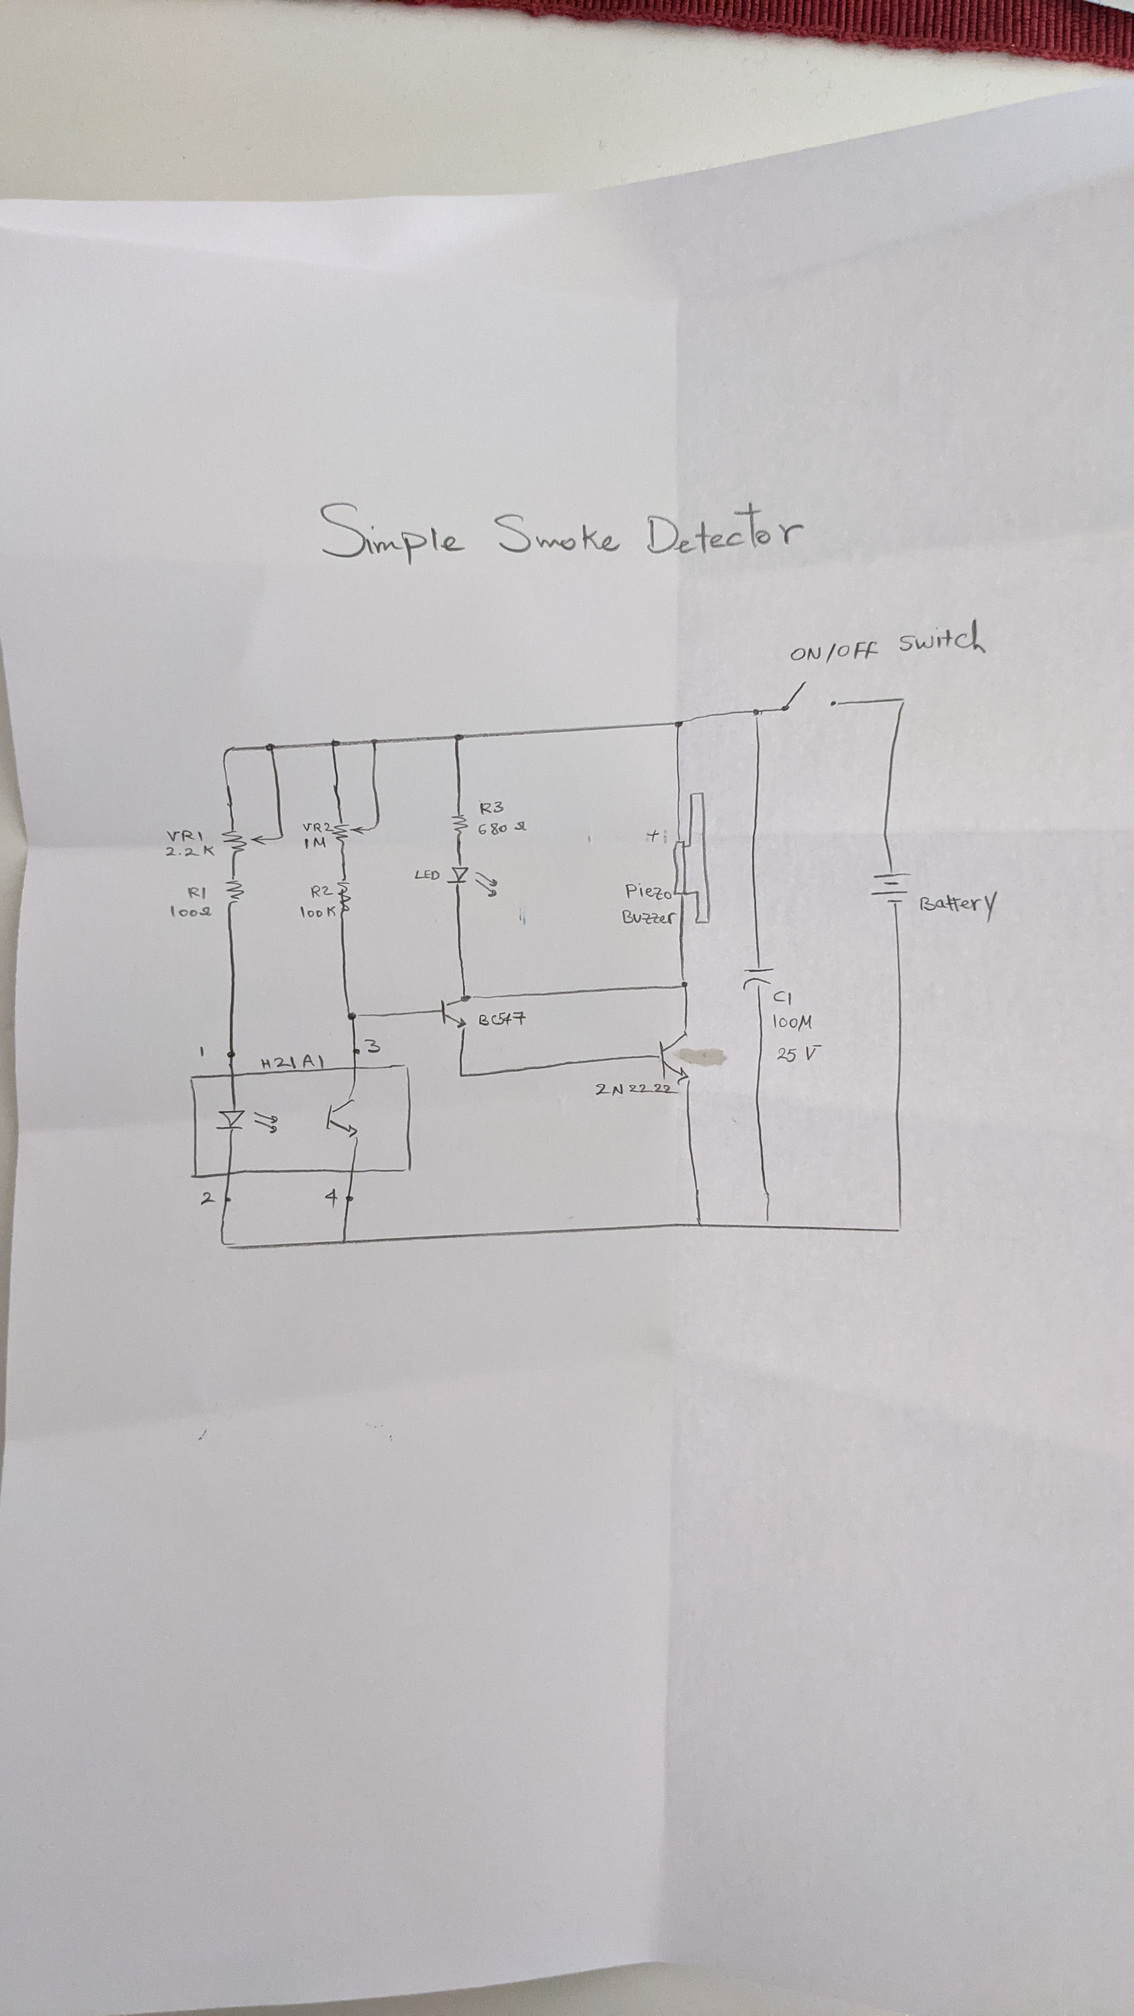capacitor.unpolarized: (739, 964, 778, 991)
diode.light_emitting: (444, 861, 501, 900)
integrated_circuit: (187, 1061, 417, 1180)
junction: (219, 1236, 240, 1253), (345, 1007, 361, 1023), (262, 739, 280, 755), (222, 745, 235, 759), (672, 719, 687, 731), (370, 820, 382, 834), (694, 1216, 706, 1230), (750, 706, 764, 719), (678, 976, 690, 991), (763, 1217, 775, 1230), (451, 732, 465, 744), (368, 737, 381, 748), (330, 737, 341, 749), (894, 1221, 906, 1234), (899, 695, 908, 708), (341, 1236, 350, 1248), (457, 1070, 467, 1081), (277, 832, 287, 842)
optocoupler: (212, 1090, 367, 1145)
resistor: (222, 874, 246, 908), (335, 876, 354, 914), (449, 810, 471, 838)
resistor.adjustable: (217, 827, 269, 858), (330, 816, 371, 850)
speaker: (670, 789, 714, 928)
switch: (780, 678, 845, 714)
text: (318, 498, 807, 568), (786, 616, 989, 665), (917, 889, 1000, 924), (259, 1052, 325, 1072), (594, 1081, 678, 1097), (620, 907, 678, 926), (775, 1041, 824, 1063), (771, 1011, 814, 1034), (624, 881, 673, 901), (476, 1008, 528, 1027), (476, 818, 530, 836), (169, 903, 215, 919), (163, 845, 217, 858), (165, 828, 206, 843), (298, 904, 338, 919), (300, 835, 330, 852), (413, 867, 443, 882), (478, 799, 505, 816), (323, 1187, 341, 1212), (197, 1188, 217, 1209), (309, 883, 335, 899), (773, 989, 795, 1007), (300, 821, 335, 832), (187, 883, 209, 900), (363, 1037, 382, 1054), (197, 1043, 208, 1059)
transistor: (655, 1026, 696, 1084), (438, 991, 480, 1032)
voltage.dc: (867, 868, 917, 910)
